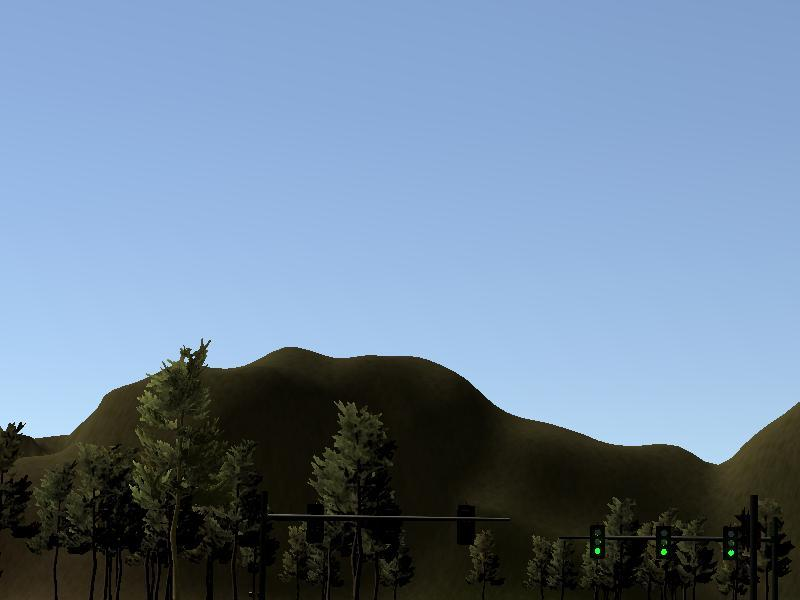Green: (657, 525, 672, 559), (591, 523, 605, 558), (724, 527, 739, 559)
